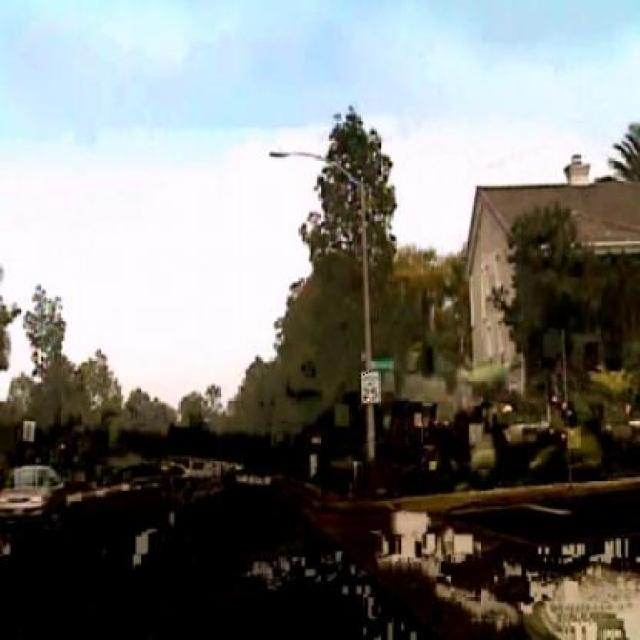speedLimit25: (358, 371, 379, 403)
